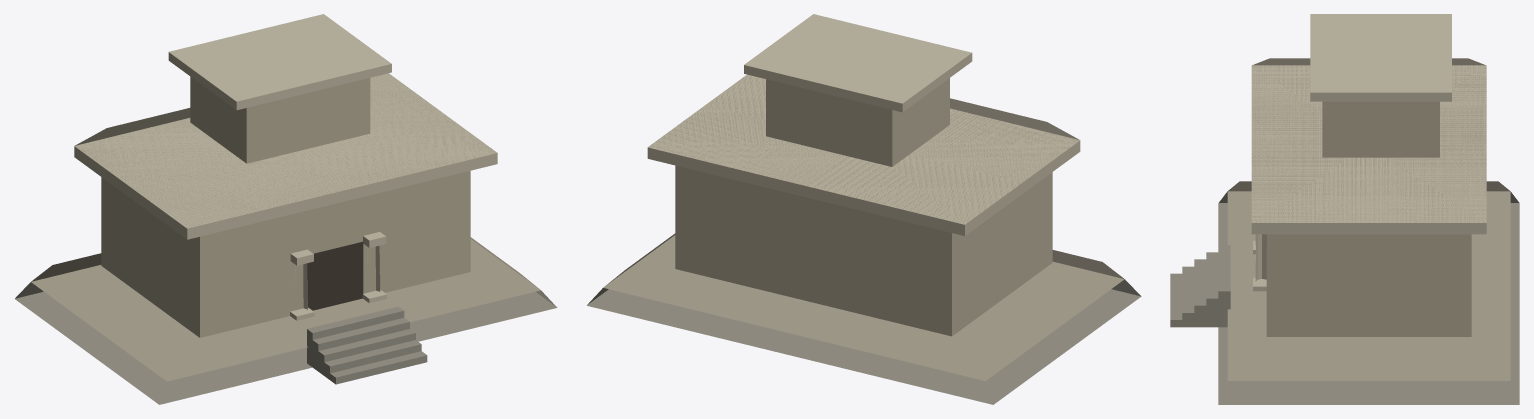
Rendered from templo_grande_lejos.glb.
3 renders of one model, left to right at view 1: azimuth 30°, elevation 25°; view 2: azimuth 150°, elevation 25°; view 3: azimuth 270°, elevation 25°, orthographic. The views are drawn at different scales.
Visible parts, largest first — view 1: templo_grande_lejos; view 2: templo_grande_lejos; view 3: templo_grande_lejos.
Part boxes in pixels (x1,y1,x2,y2): templo_grande_lejos: (15,14,557,404); templo_grande_lejos: (587,14,1141,404); templo_grande_lejos: (1170,14,1519,404).
Bounding box in the file's own units: 38.01 × 22.01 × 27.8.
